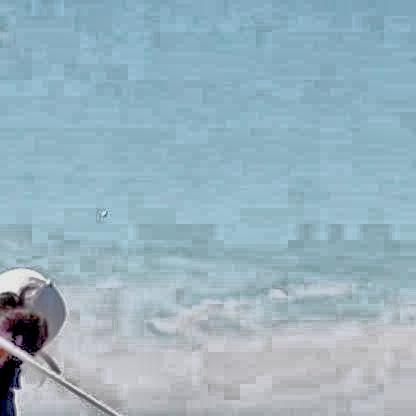golfball: (98, 207, 107, 215)
